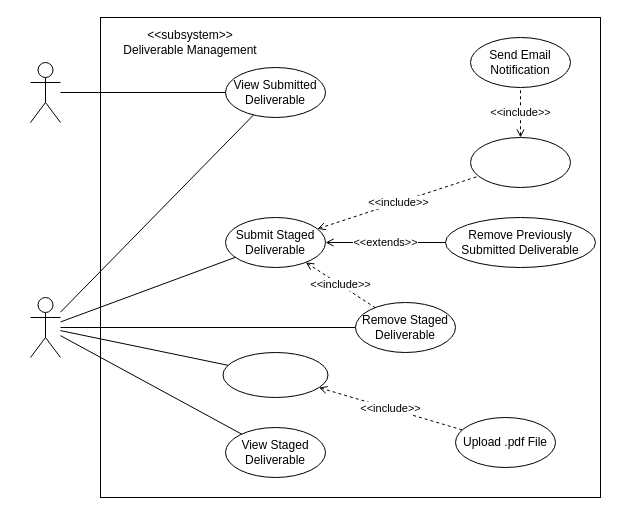
Some shapes in this 618 by 515 pixel diagram are drawn without their labels. The centre of each missing label's shape, as x and y in pixels:
"Create Notification & Reminder" goes at (520,162).
"Create Staged Deliverable" goes at (275,375).
"Student" goes at (45,327).
"Supervisor" goes at (45,92).
